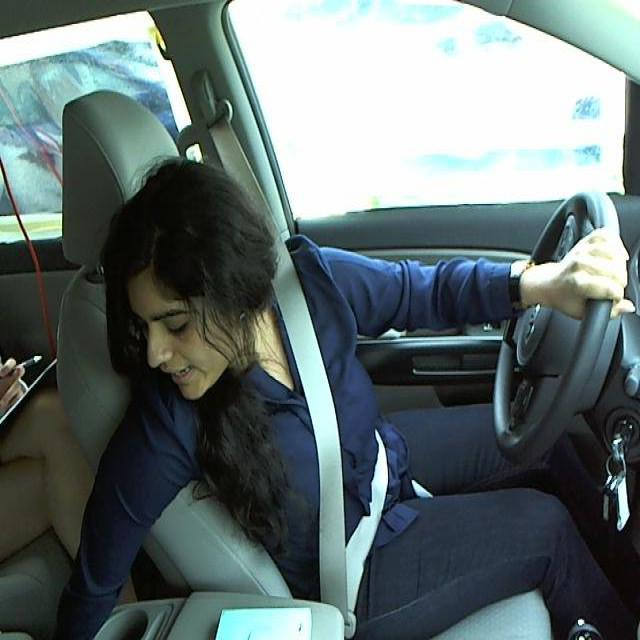seatbelt: (271, 286, 392, 598)
